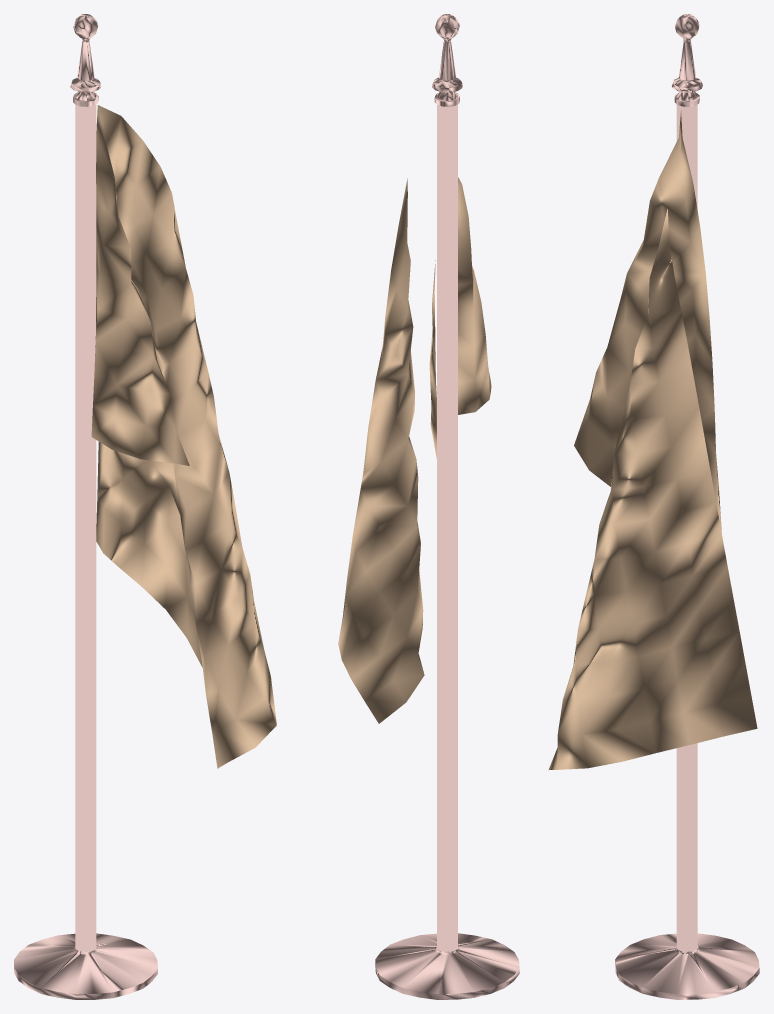
Rendered from flag_pole_1_a_lod1.glb.
The picture shows the model from 3 angles, left to right: view 1: azimuth 30°, elevation 25°; view 2: azimuth 150°, elevation 25°; view 3: azimuth 270°, elevation 25°; orthographic projection.
Bounding box in the file's own units: 0.6571 × 2.99 × 0.5984.
